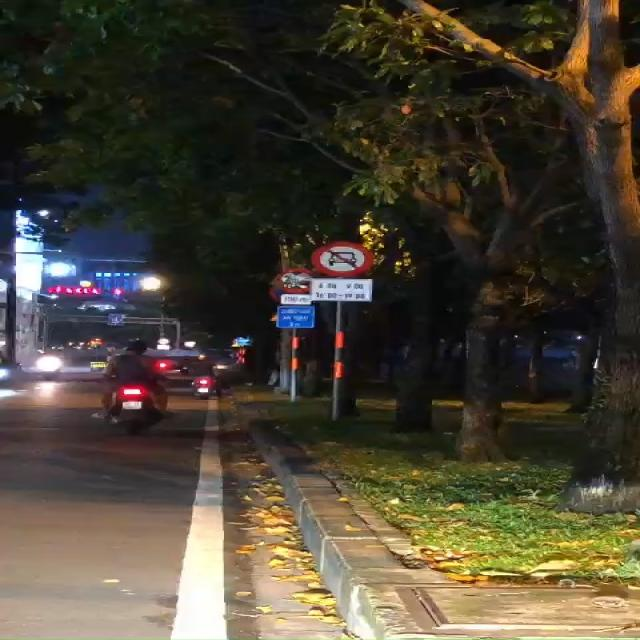Bien bao cam xe oto: (302, 237, 378, 276)
